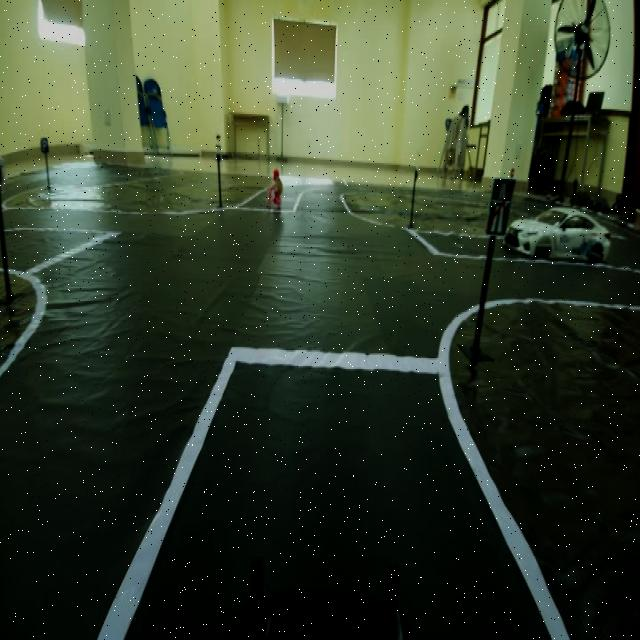highway_exit: (477, 166, 511, 240)
